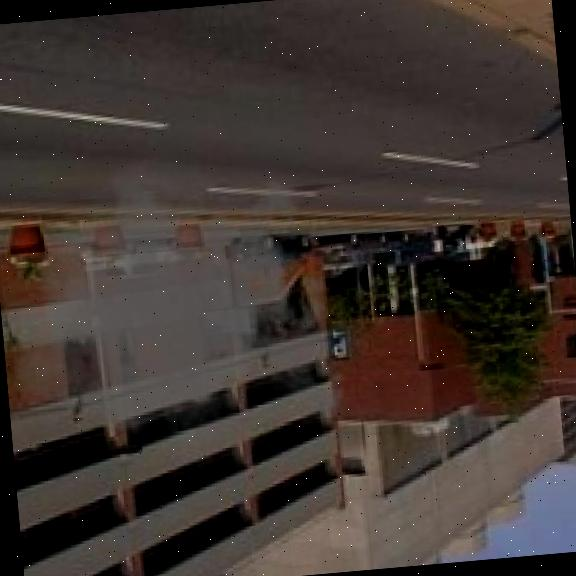smoke: (0, 124, 362, 500)
